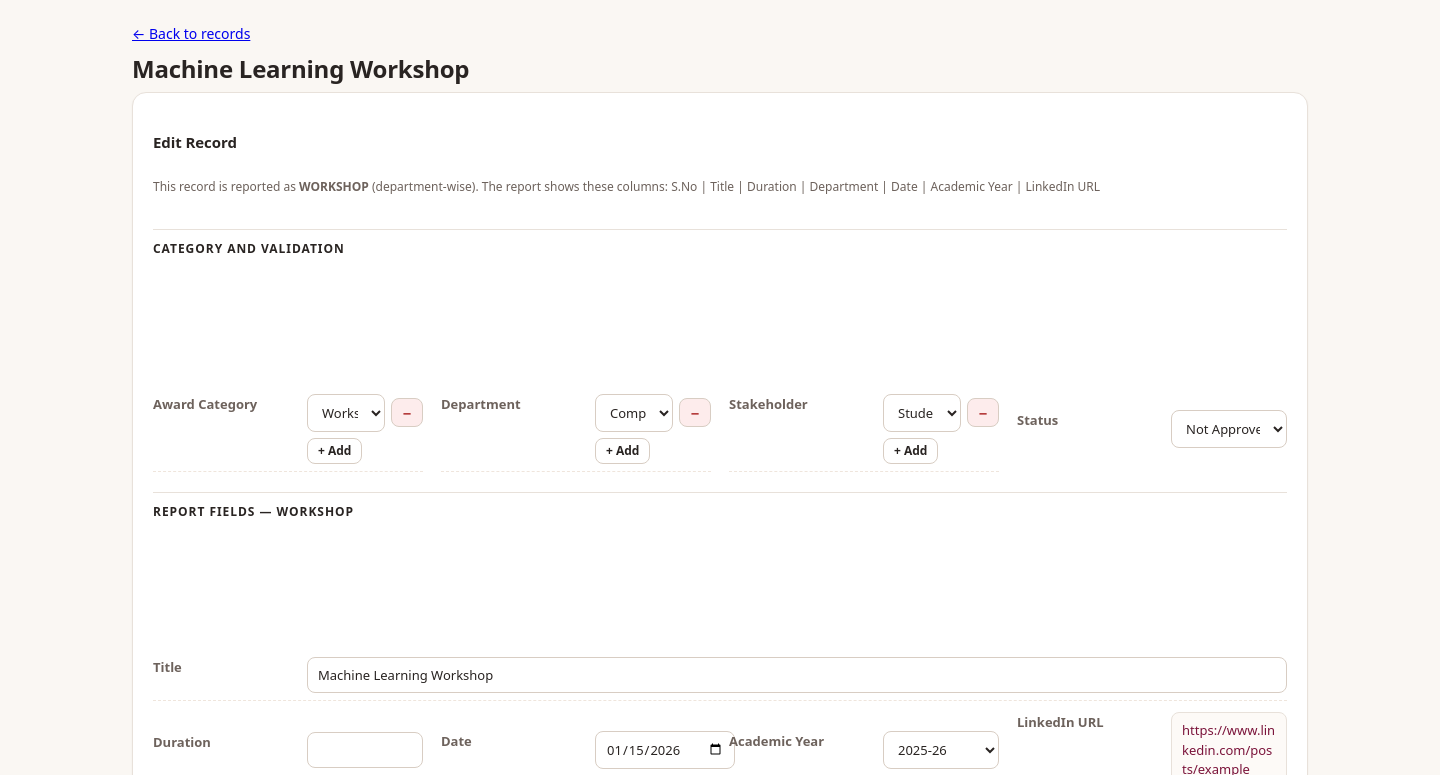
Scenario: LinkedIn Admin Record Detail › adds a second Award Category and sends both in the PATCH payload
Expected: the dropdown labelled "Award Category" is shown, [307, 394, 385, 432]
Click the button with aria-label "Add Award Category" at x=335, y=451, box [307, 438, 362, 464]
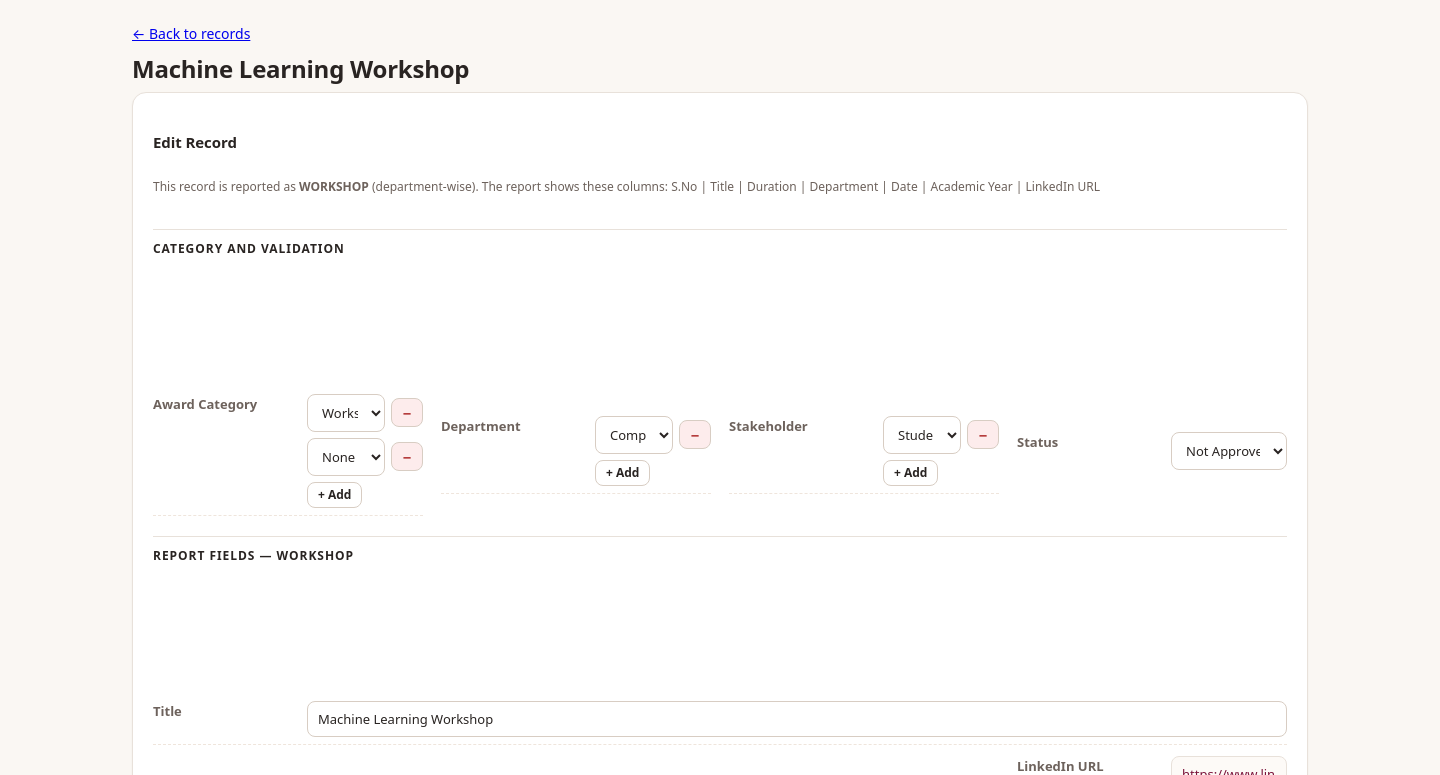
Select "FDP" in the dropdown named "Award Category 2" at x=346, y=457, box [307, 438, 385, 476]
(page scrolled)
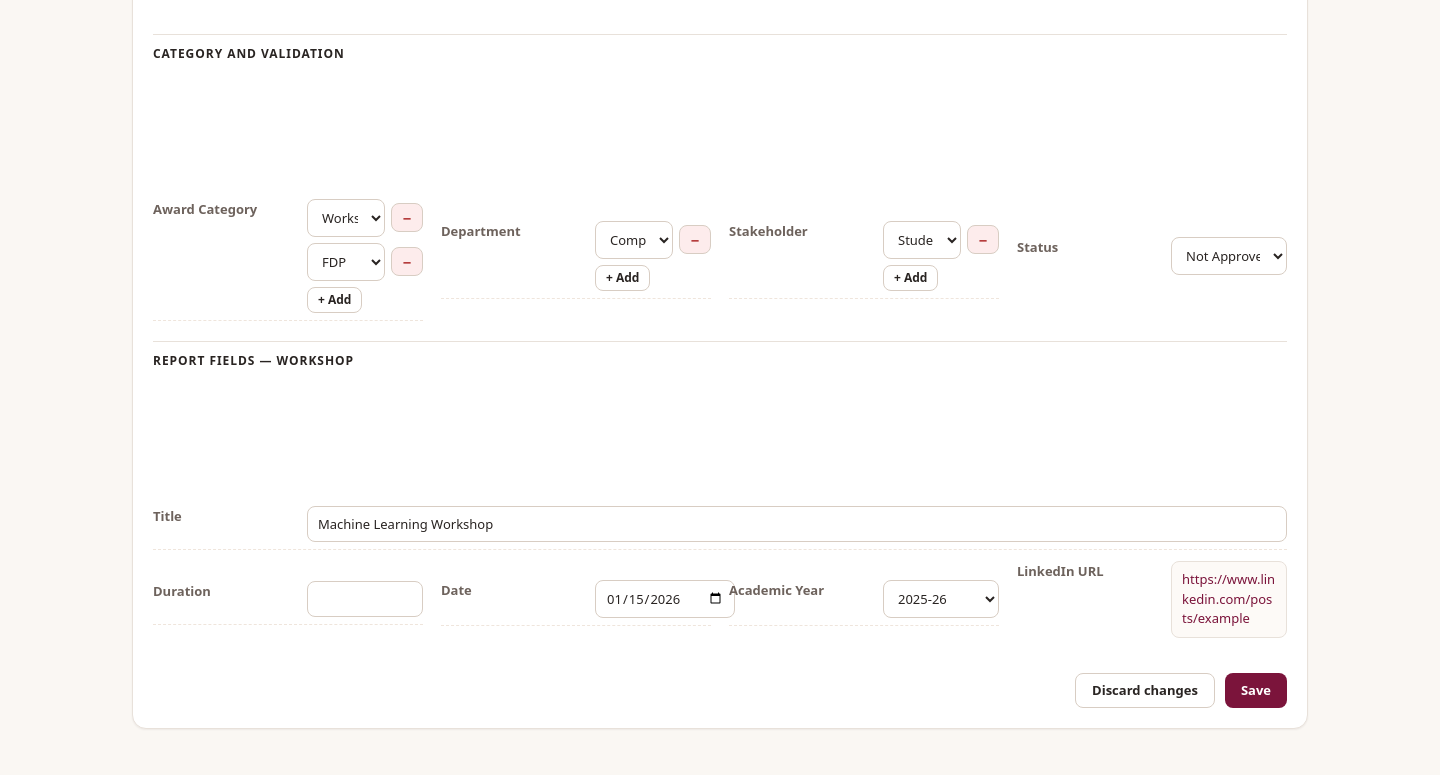
Click the button "Save" at x=1256, y=690, box [1225, 673, 1287, 708]
(page scrolled)
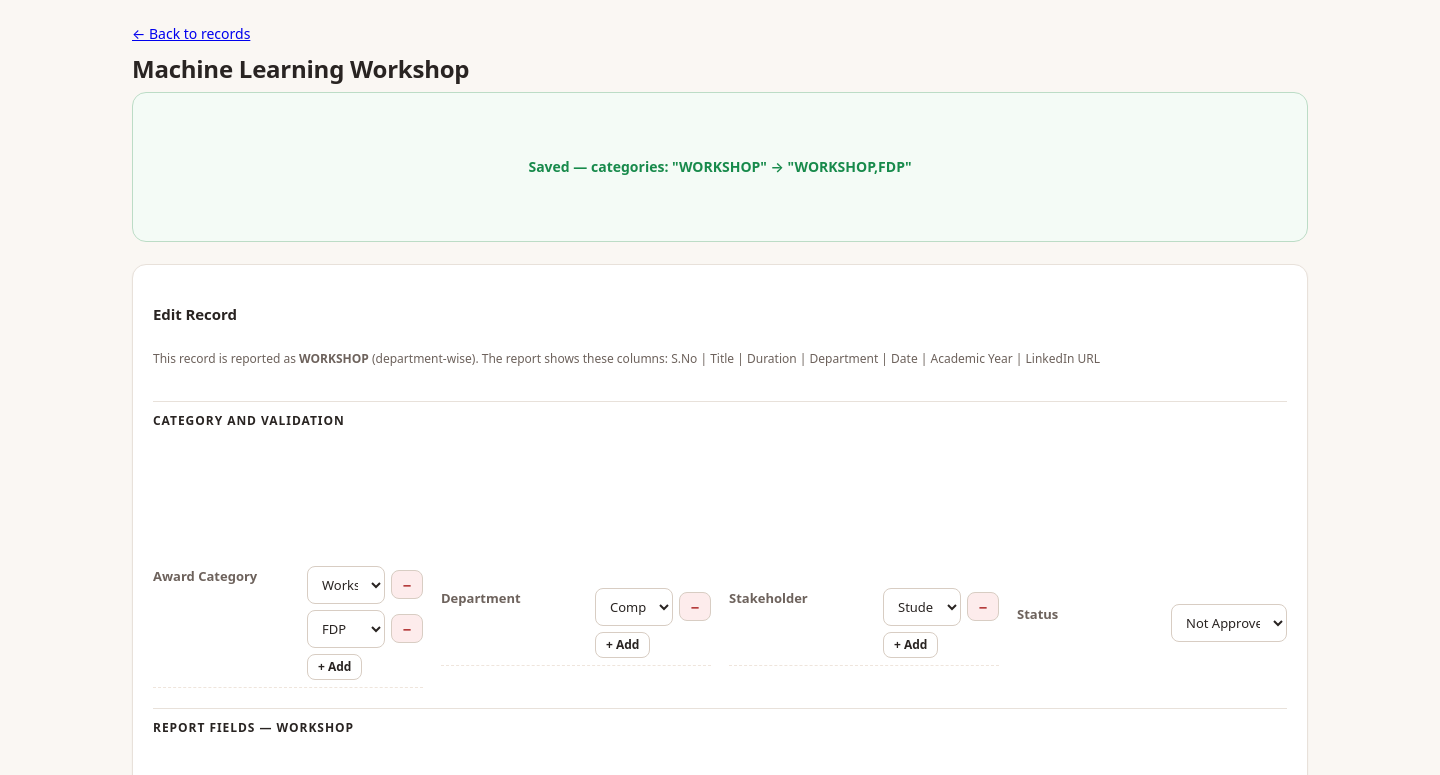
Expected: the text "Saved — categories: \"WORKSHOP\" → \"WORKSHOP,FDP\"" is shown, [132, 92, 1308, 242]
